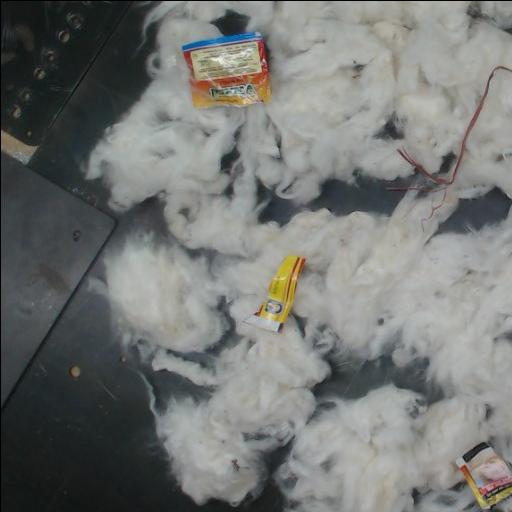cotton: (81, 1, 512, 512)
packet: (182, 33, 268, 106), (244, 255, 304, 331), (456, 442, 512, 508)
thread: (397, 66, 512, 220)
